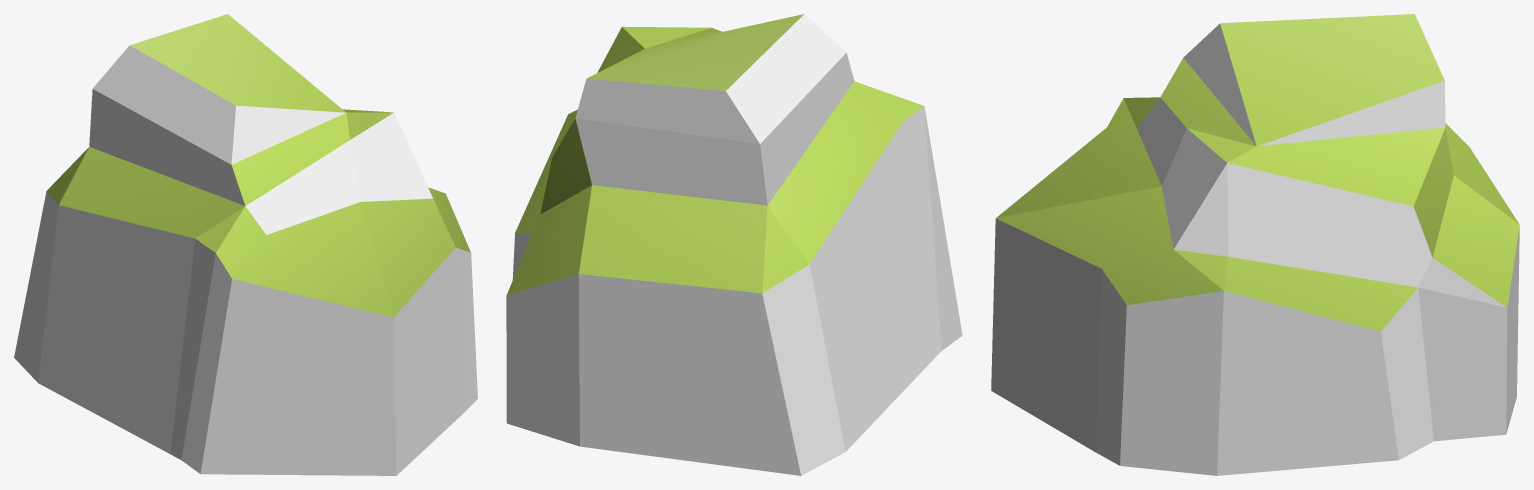
Rendered from RockMoss7.fbx.
3 renders of one model, left to right at view 1: azimuth 30°, elevation 25°; view 2: azimuth 150°, elevation 25°; view 3: azimuth 270°, elevation 25°, orthographic. The views are drawn at different scales.
Visible parts, largest first — view 1: Rock_Moss_7_Cube.028; view 2: Rock_Moss_7_Cube.028; view 3: Rock_Moss_7_Cube.028.
Part boxes in pixels (x1=…): Rock_Moss_7_Cube.028: x1=14, y1=14, x2=477, y2=475; Rock_Moss_7_Cube.028: x1=506, y1=14, x2=962, y2=475; Rock_Moss_7_Cube.028: x1=991, y1=14, x2=1519, y2=475.
Bounding box in the file's own units: 87.55 × 77.39 × 110.
